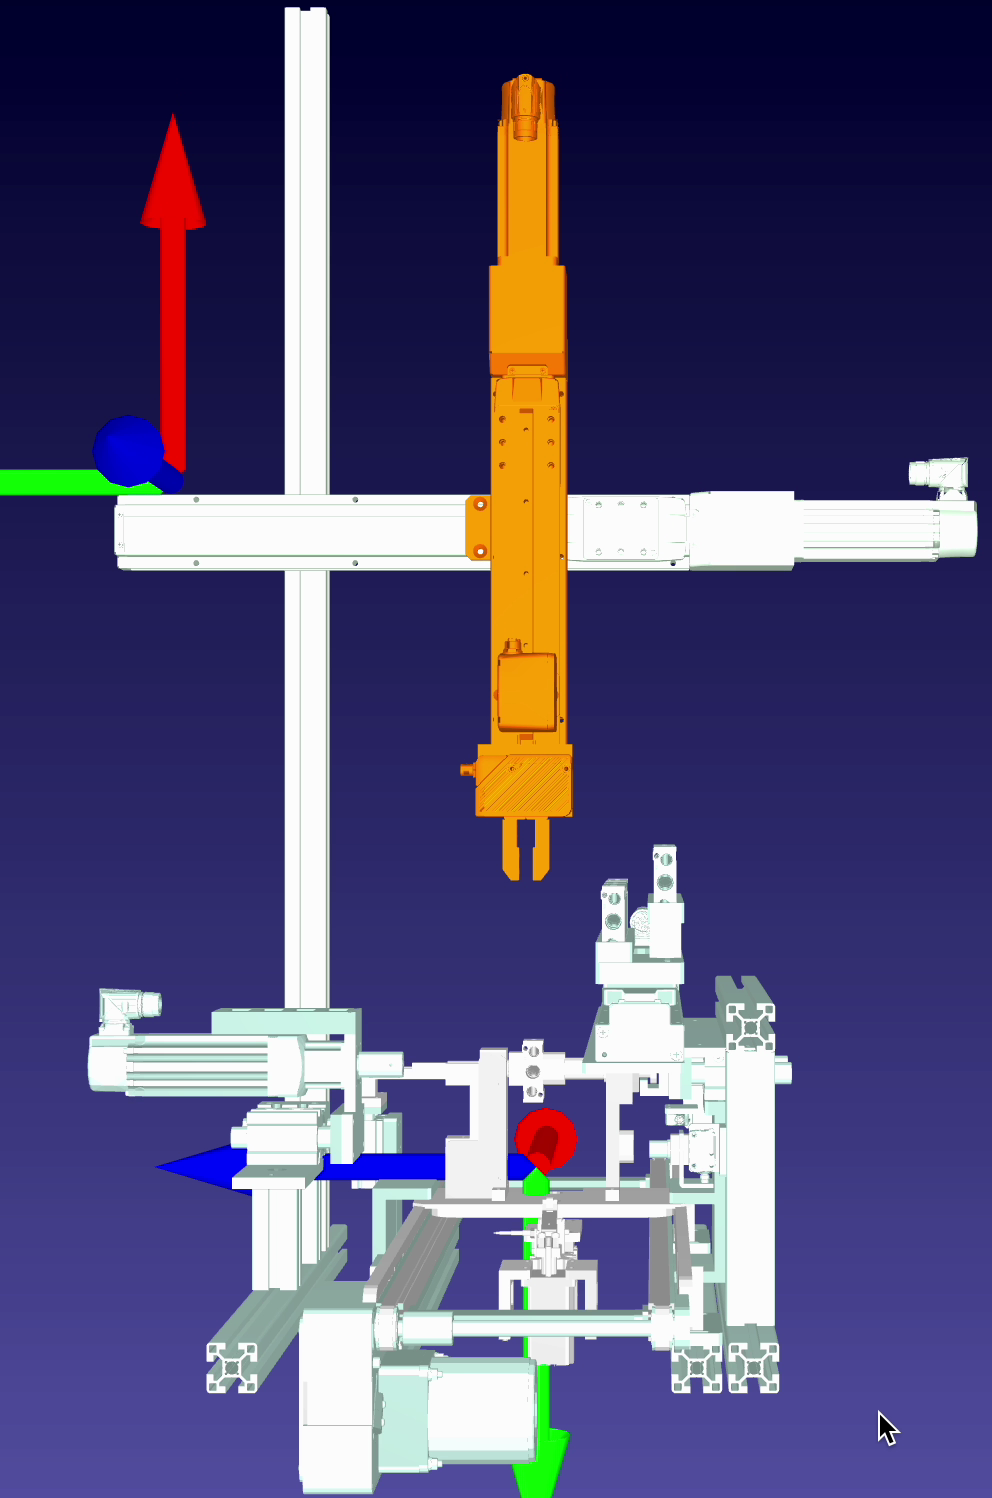Gripper: (468, 731, 583, 890)
